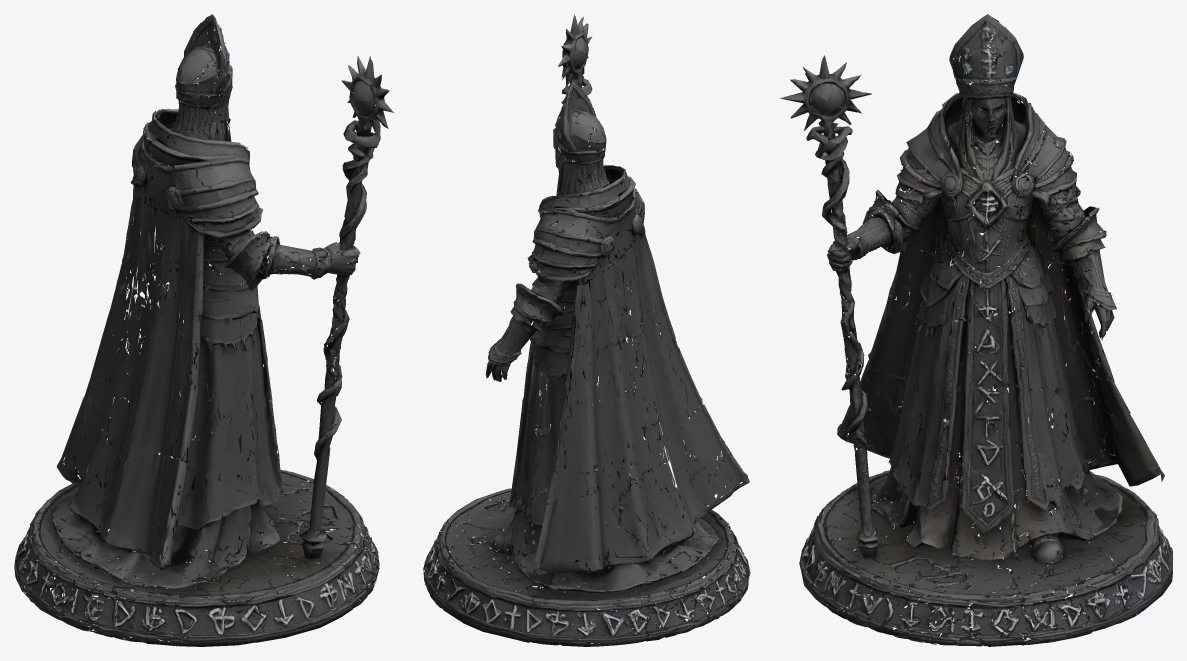
The model's file is nm_bishop.glb.
3 views of the same model, side by side, from view 1: azimuth 30°, elevation 25°; view 2: azimuth 150°, elevation 25°; view 3: azimuth 270°, elevation 25° (orthographic). The views are drawn at different scales.
Parts seen in each view (by area): view 1: Object_2; view 2: Object_2; view 3: Object_2.
Boxes of the visible parts, bbox=[...] form: Object_2: bbox=[14, 14, 393, 646]; Object_2: bbox=[423, 14, 750, 646]; Object_2: bbox=[779, 14, 1172, 646].
Size of the model in its own units: 0.6041 by 0.9992 by 0.6326.
1 material, 1 textured.
